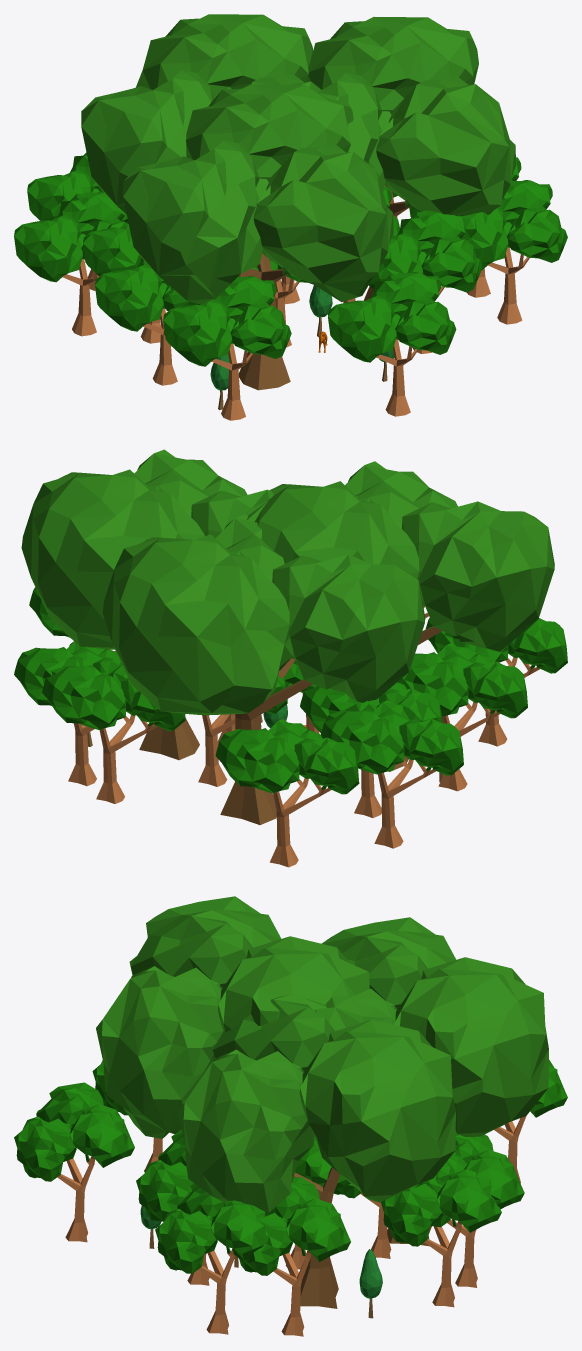
The model's file is ForestModel.glb.
3 views of the same model, one above another, from view 1: azimuth 30°, elevation 25°; view 2: azimuth 150°, elevation 25°; view 3: azimuth 270°, elevation 25° (orthographic). The views are drawn at different scales.
Visible parts, largest first — view 1: Tree_average_lush, Tree_average_lush.001, Tree_average_lush.002, Tree_average_regular.011, Tree_average_regular.009, Tree_average_regular.012, Tree_average_regular.008, Tree_average_regular.013, Tree_average_regular.002, Tree_average_regular.006, Tree_average_regular.001, Tree_average_regular.007 (+3 smaller); view 2: Tree_average_lush.002, Tree_average_lush, Tree_average_lush.001, Tree_average_regular.006, Tree_average_regular.008, Tree_average_regular.002, Tree_average_regular.003, Tree_average_regular.004, Tree_average_regular.001, Tree_average_regular.009, Tree_average_regular, Tree_average_regular.010; view 3: Tree_average_lush.001, Tree_average_lush, Tree_average_lush.002, Tree_average_regular.011, Tree_average_regular.012, Tree_average_regular.004, Tree_average_regular.010, Tree_average_regular.003, Tree_average_regular.013, Tree_average_regular.006, Tree_average_regular.005, Tree_small_regular.004 (+2 smaller).
Part boxes in pixels (x1=…): Tree_average_lush: x1=123, y1=84, x2=393, y2=390; Tree_average_lush.001: x1=306, y1=16, x2=516, y2=300; Tree_average_lush.002: x1=81, y1=14, x2=321, y2=213; Tree_average_regular.011: x1=328, y1=272, x2=456, y2=416; Tree_average_regular.009: x1=163, y1=276, x2=291, y2=420; Tree_average_regular.012: x1=461, y1=180, x2=567, y2=324; Tree_average_regular.008: x1=14, y1=191, x2=127, y2=336; Tree_average_regular.013: x1=369, y1=210, x2=482, y2=353; Tree_average_regular.002: x1=95, y1=257, x2=199, y2=385; Tree_average_regular.006: x1=27, y1=152, x2=127, y2=290; Tree_average_regular.001: x1=83, y1=221, x2=161, y2=343; Tree_average_regular.007: x1=238, y1=259, x2=313, y2=347; Tree_average_lush.002: x1=102, y1=514, x2=425, y2=824; Tree_average_lush: x1=255, y1=461, x2=554, y2=771; Tree_average_lush.001: x1=21, y1=449, x2=273, y2=760; Tree_average_regular.006: x1=215, y1=719, x2=359, y2=867; Tree_average_regular.008: x1=321, y1=700, x2=463, y2=848; Tree_average_regular.002: x1=397, y1=643, x2=527, y2=791; Tree_average_regular.003: x1=42, y1=656, x2=185, y2=803; Tree_average_regular.004: x1=14, y1=641, x2=128, y2=786; Tree_average_regular.001: x1=300, y1=682, x2=442, y2=817; Tree_average_regular.009: x1=425, y1=618, x2=567, y2=746; Tree_average_regular: x1=198, y1=676, x2=287, y2=786; Tree_average_regular.010: x1=29, y1=587, x2=116, y2=651; Tree_average_lush.001: x1=177, y1=994, x2=455, y2=1308; Tree_average_lush: x1=96, y1=896, x2=369, y2=1138; Tree_average_lush.002: x1=315, y1=917, x2=548, y2=1246; Tree_average_regular.011: x1=14, y1=1082, x2=134, y2=1242; Tree_average_regular.012: x1=155, y1=1183, x2=265, y2=1334; Tree_average_regular.004: x1=381, y1=1152, x2=501, y2=1307; Tree_average_regular.010: x1=233, y1=1176, x2=350, y2=1336; Tree_average_regular.003: x1=413, y1=1131, x2=524, y2=1287; Tree_average_regular.013: x1=136, y1=1130, x2=209, y2=1285; Tree_average_regular.006: x1=494, y1=1059, x2=567, y2=1183; Tree_average_regular.005: x1=285, y1=1136, x2=350, y2=1269; Tree_small_regular.004: x1=359, y1=1249, x2=382, y2=1318.
Bounding box in the file's own units: 26.57 × 15.39 × 26.36.
